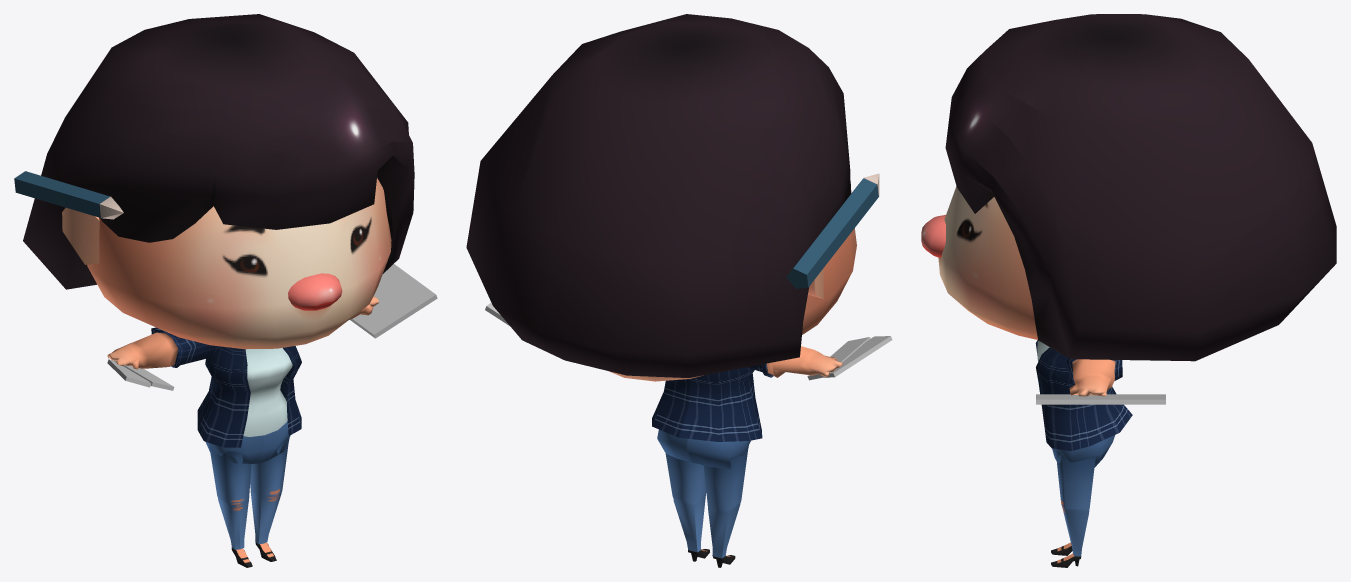
Rendered from Char_Man_Arc_03.fbx.
3 views of the same model, side by side, from view 1: azimuth 30°, elevation 25°; view 2: azimuth 150°, elevation 25°; view 3: azimuth 270°, elevation 25° (orthographic). The views are drawn at different scales.
Parts seen in each view (by area): view 1: Hair_Interrior_Designer, Head_Interrior_Designer, Jacket_Interrior_Designer, Body_Interrior_Designer, R_Leg_Interrior_Designer, Sketckbook_Interrior_Designer, R_Arm_Interrior_Designer, L_Leg_Interrior_Designer, Pencil_Interrior_Designer, R_Ear_Interrior_Designer, Nose_Interrior_Designer, Butt_Interrior_Designer (+1 smaller); view 2: Hair_Interrior_Designer, Jacket_Interrior_Designer, Pencil_Interrior_Designer, R_Leg_Interrior_Designer, L_Leg_Interrior_Designer, Head_Interrior_Designer, Butt_Interrior_Designer, R_Arm_Interrior_Designer, Palette_Interrior_Designer; view 3: Hair_Interrior_Designer, Head_Interrior_Designer, Jacket_Interrior_Designer, L_Leg_Interrior_Designer, L_Arm_Interrior_Designer, Sketckbook_Interrior_Designer, Nose_Interrior_Designer, Butt_Interrior_Designer.
Boxes of the visible parts, x1,y1,x2,y2 form: Hair_Interrior_Designer: (23,14,414,289); Head_Interrior_Designer: (87,178,391,349); Jacket_Interrior_Designer: (197,346,301,447); Body_Interrior_Designer: (243,348,292,436); R_Leg_Interrior_Designer: (209,444,252,567); Sketckbook_Interrior_Designer: (350,264,437,338); R_Arm_Interrior_Designer: (107,327,220,369); L_Leg_Interrior_Designer: (250,437,289,561); Pencil_Interrior_Designer: (14,171,123,219); R_Ear_Interrior_Designer: (62,207,99,264); Nose_Interrior_Designer: (288,273,342,310); Butt_Interrior_Designer: (205,421,290,463); Hair_Interrior_Designer: (466,14,851,377); Jacket_Interrior_Designer: (652,367,762,441); Pencil_Interrior_Designer: (786,173,879,288); R_Leg_Interrior_Designer: (703,445,748,567); L_Leg_Interrior_Designer: (665,454,709,561); Head_Interrior_Designer: (609,228,856,381); Butt_Interrior_Designer: (657,429,750,469); R_Arm_Interrior_Designer: (747,346,842,377); Palette_Interrior_Designer: (807,336,892,380); Hair_Interrior_Designer: (945,14,1336,361); Head_Interrior_Designer: (938,186,1037,339); Jacket_Interrior_Designer: (1035,340,1132,451); L_Leg_Interrior_Designer: (1051,450,1095,567); L_Arm_Interrior_Designer: (1066,358,1122,396); Sketckbook_Interrior_Designer: (1036,394,1165,404); Nose_Interrior_Designer: (921,215,945,257); Butt_Interrior_Designer: (1052,435,1114,467).
Size of the model in its own units: 5 by 7.21 by 5.2.
Materials: 2 (2 with a texture image).
